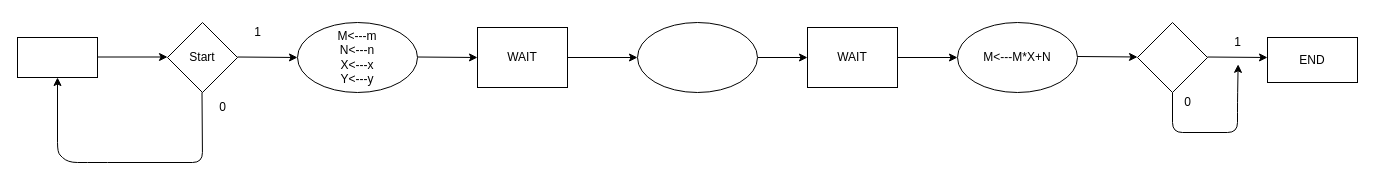
Some shapes in this 1375 by 188 pixel diagram are drawn without their labels. Here are the shapes that lost their labels. From the top down, the centre of each, then its label:
[57,57]: IDLE
[697,57]: M<---M*X
[1172,57]: M==Y
